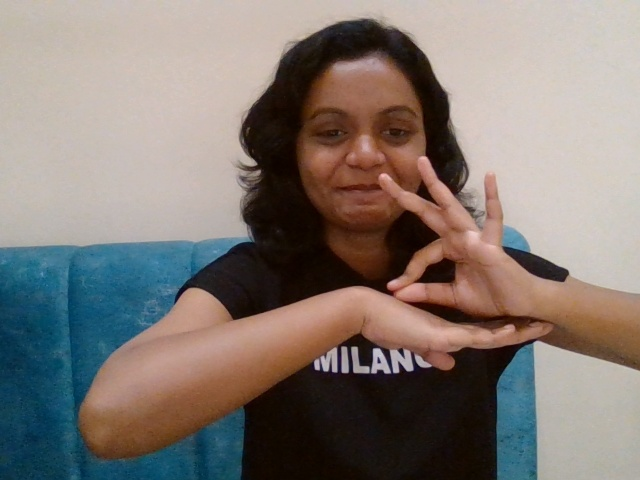How are you?: (307, 154, 592, 409)
